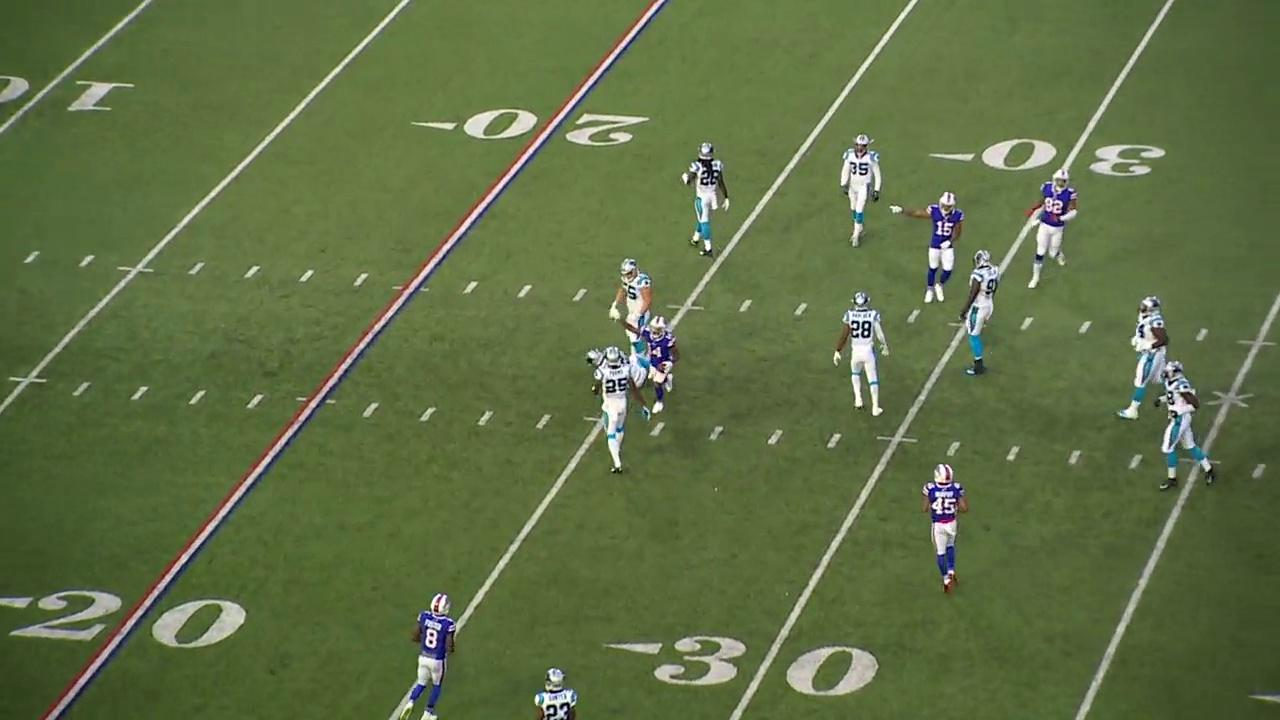five_hash: (876, 434, 919, 445), (116, 265, 155, 275), (297, 396, 338, 405), (8, 377, 48, 386), (666, 303, 705, 311), (1238, 339, 1279, 346), (392, 285, 431, 291)
hash: (1250, 461, 1267, 482), (186, 390, 207, 406), (708, 424, 726, 442), (825, 432, 842, 450), (533, 413, 552, 429), (419, 405, 435, 424), (130, 385, 149, 401), (361, 402, 378, 419), (905, 308, 923, 324), (944, 441, 962, 457), (22, 250, 41, 265), (76, 253, 96, 267), (185, 261, 206, 274), (246, 393, 263, 409), (72, 381, 90, 396), (767, 430, 783, 446), (353, 272, 370, 287), (1129, 453, 1144, 470), (477, 409, 494, 424), (1007, 444, 1021, 461), (651, 421, 666, 436), (243, 265, 260, 278), (794, 302, 807, 319), (298, 270, 316, 282), (739, 298, 753, 313), (517, 285, 533, 298), (1196, 326, 1208, 343), (1077, 320, 1091, 334), (1020, 317, 1033, 332), (461, 282, 478, 293), (573, 289, 587, 302), (1068, 450, 1081, 464)
number: (6, 586, 252, 652), (650, 629, 887, 696), (977, 131, 1168, 182), (465, 102, 653, 149)
